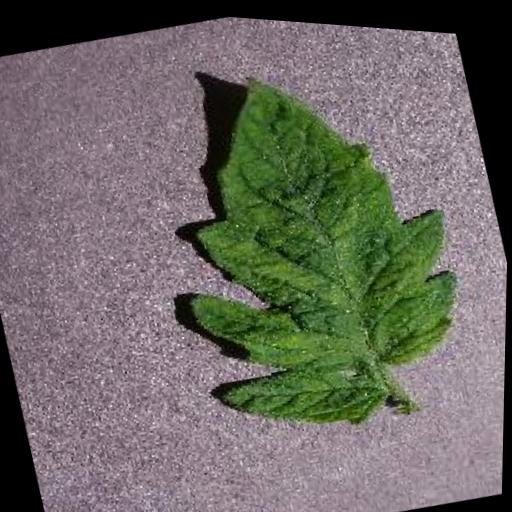Mosaic Virus: (136, 24, 492, 458)
